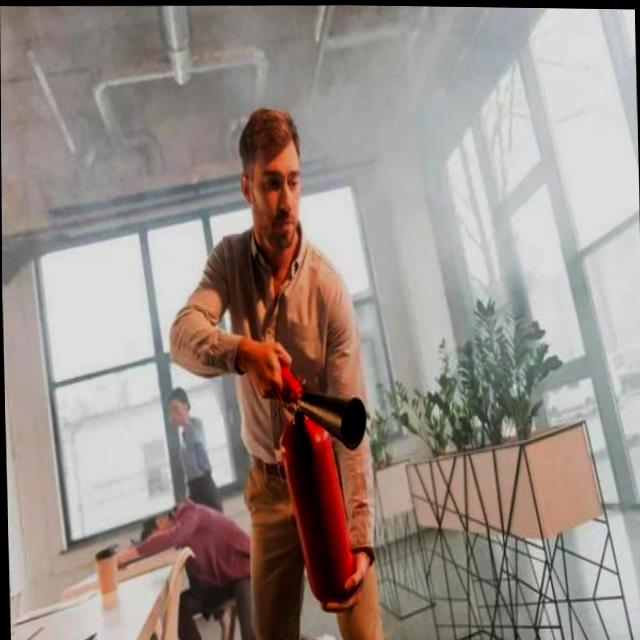FireExtinguisher: (255, 346, 373, 608)
